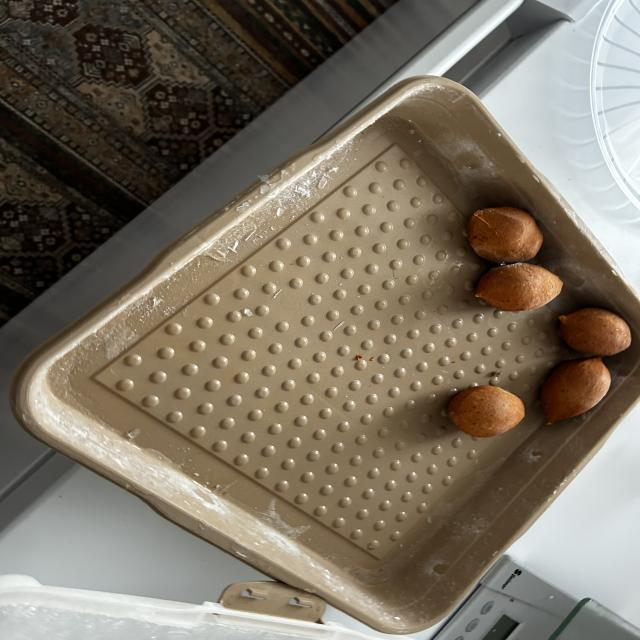kobi: (472, 262, 568, 312), (542, 360, 610, 426), (451, 389, 527, 438), (562, 307, 634, 353)
